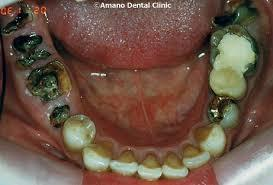cavity: (207, 23, 263, 79), (21, 58, 77, 104), (4, 31, 59, 70), (58, 110, 100, 153), (204, 91, 243, 131), (208, 63, 249, 101), (209, 1, 257, 28), (0, 3, 39, 35), (197, 120, 227, 159), (79, 143, 115, 175), (39, 98, 72, 129), (108, 146, 141, 177), (159, 150, 194, 179), (182, 141, 213, 170), (135, 153, 165, 182)
